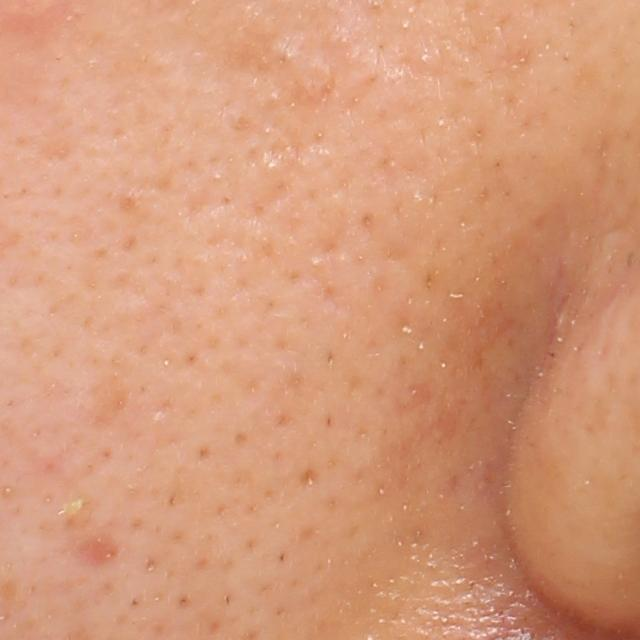atrophic_scar: (74, 537, 132, 573)
comedo: (0, 483, 16, 500)
